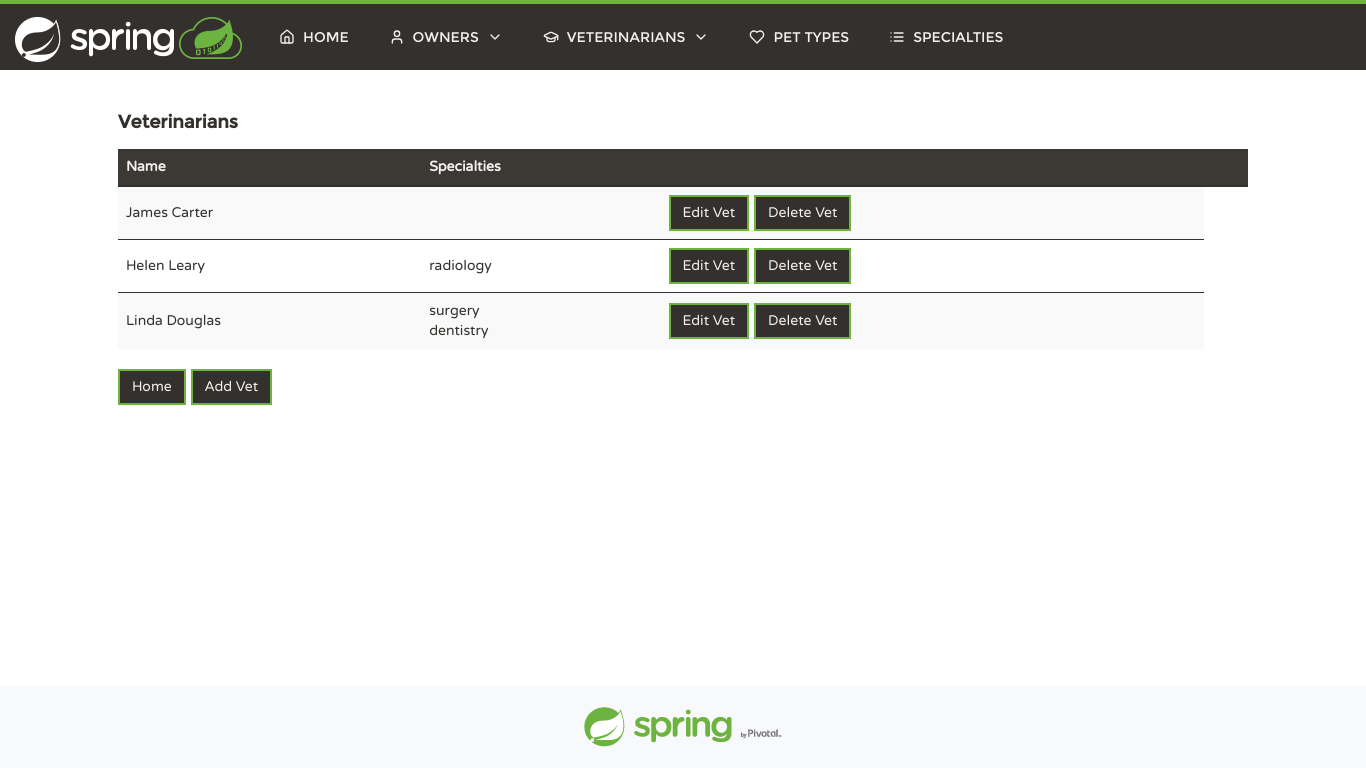
Test: VetListPage › deletes a vet and refetches the list
Expected: the text "James Carter" is shown, 118,186 -> 421,240
Click the button "Delete Vet" in the row of "James" at (803, 213), box 754,195 -> 852,231
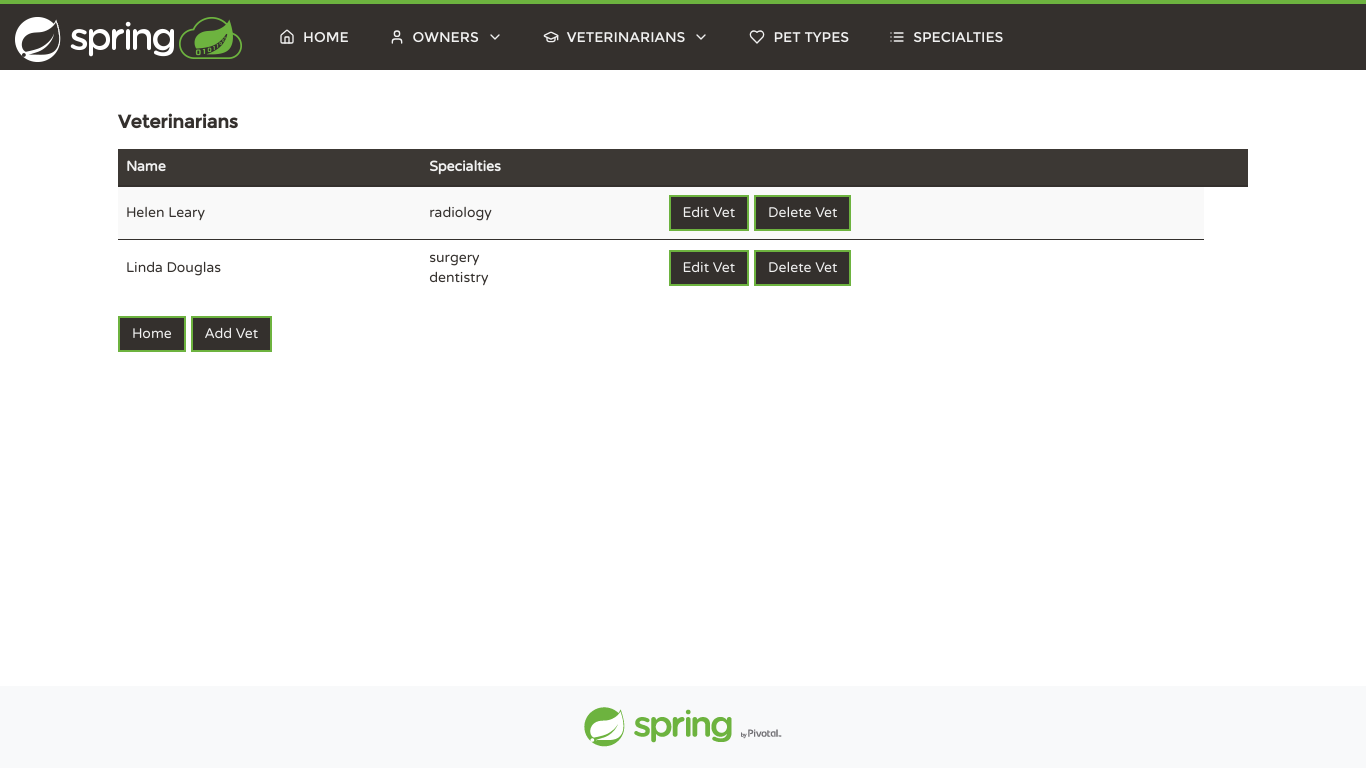
Expected: the text "Helen Leary" is shown, 118,186 -> 421,240
Expected: the text "James Carter" is gone
